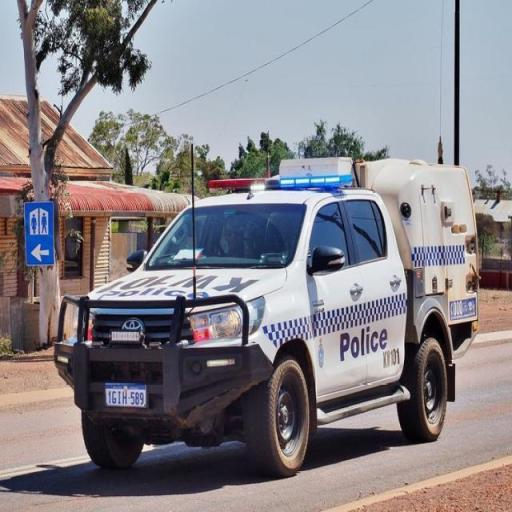Ambulance: (56, 159, 482, 480)
